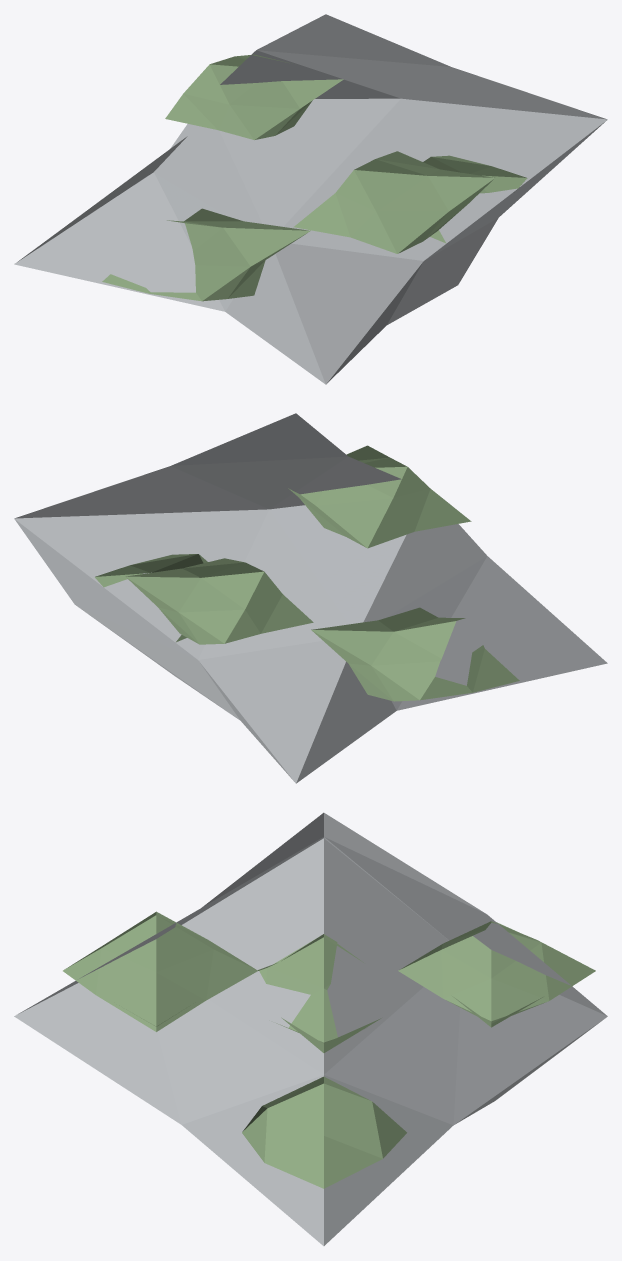
File: moss_rock_v14.glb
3 renders of one model, top to bottom at view 1: azimuth 30°, elevation 25°; view 2: azimuth 150°, elevation 25°; view 3: azimuth 270°, elevation 25°, orthographic. The views are drawn at different scales.
Visible parts, largest first — view 1: lod0; view 2: lod0; view 3: lod0.
Part boxes in pixels (bbox=[...]): lod0: bbox=[14, 14, 607, 384]; lod0: bbox=[14, 413, 607, 783]; lod0: bbox=[14, 812, 607, 1246].
Size of what is drawn, in the model's own units: 1.8 by 1.07 by 1.33.
